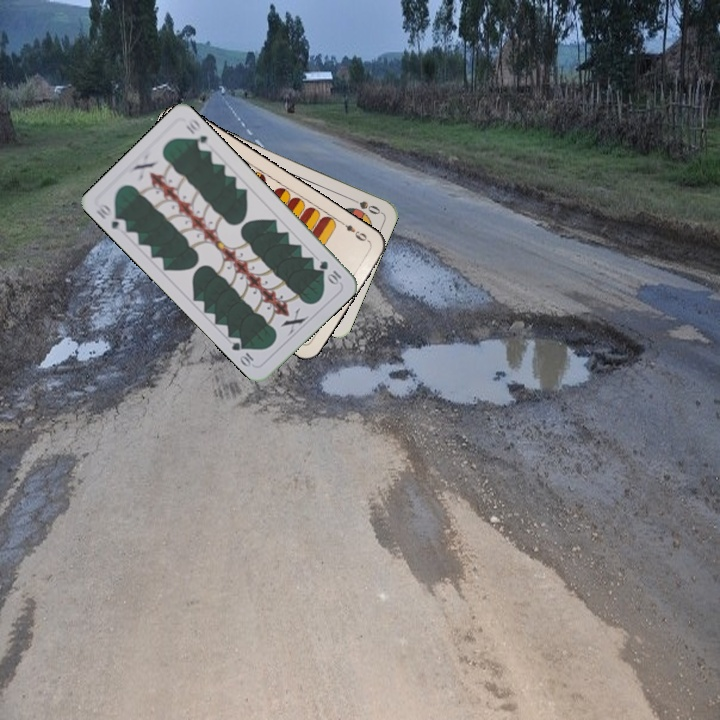E9: (336, 217, 372, 245)
G10: (92, 200, 130, 232), (315, 256, 344, 287)
SO: (345, 193, 383, 217)
